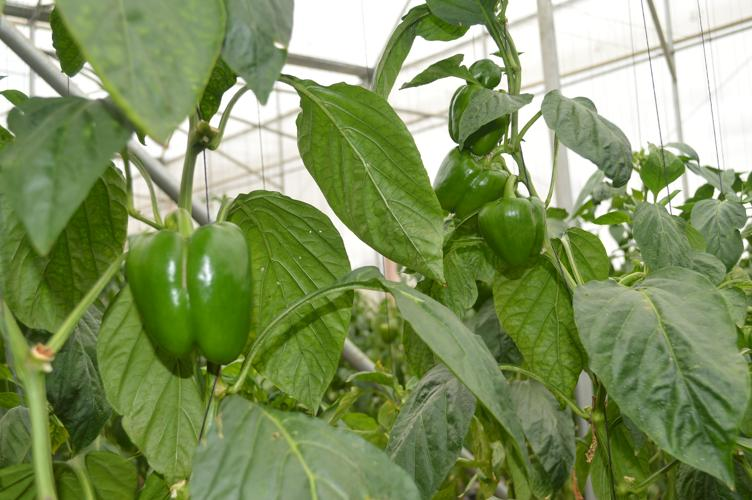BellPepper: (121, 216, 256, 373), (463, 187, 549, 267), (434, 78, 514, 157), (419, 145, 512, 211)
